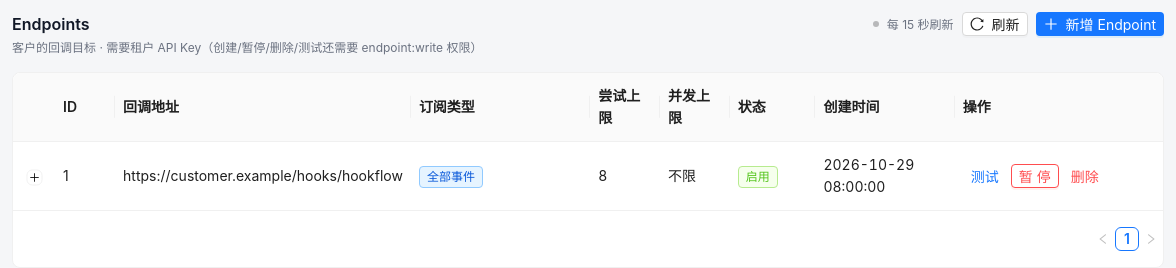
Test: EndpointsPage › warns what deleting cancels, and that it cannot be undone
The image size is (1176, 268).
What coordinates should you click on to do the following:
click the button "删除"
I would click on:
 (1085, 176)
Its box is [1063, 164, 1107, 188].
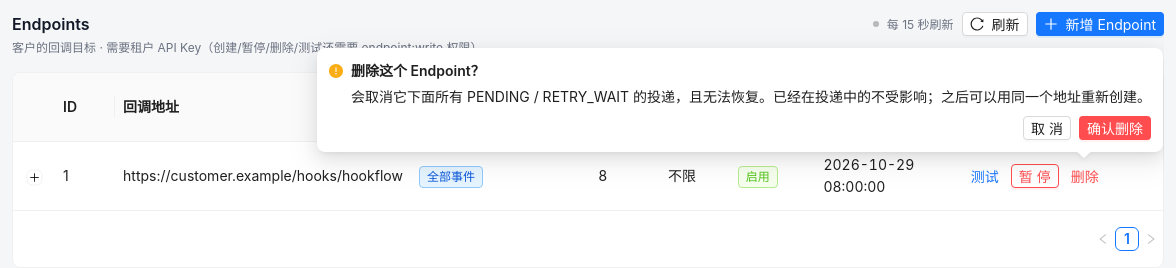
Now the text "删除这个 Endpoint？" is shown, box [351, 62, 485, 79]
Now the text "会取消它下面所有 PENDING / RETRY_WAIT 的投递，且无法恢复" is shown, box [351, 88, 1151, 105]
